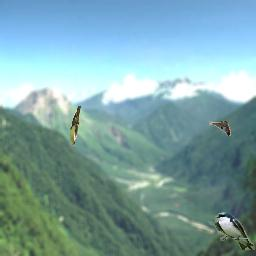Cuckoo: (70, 106, 81, 146)
Swallow: (215, 212, 255, 250), (209, 121, 231, 136)
